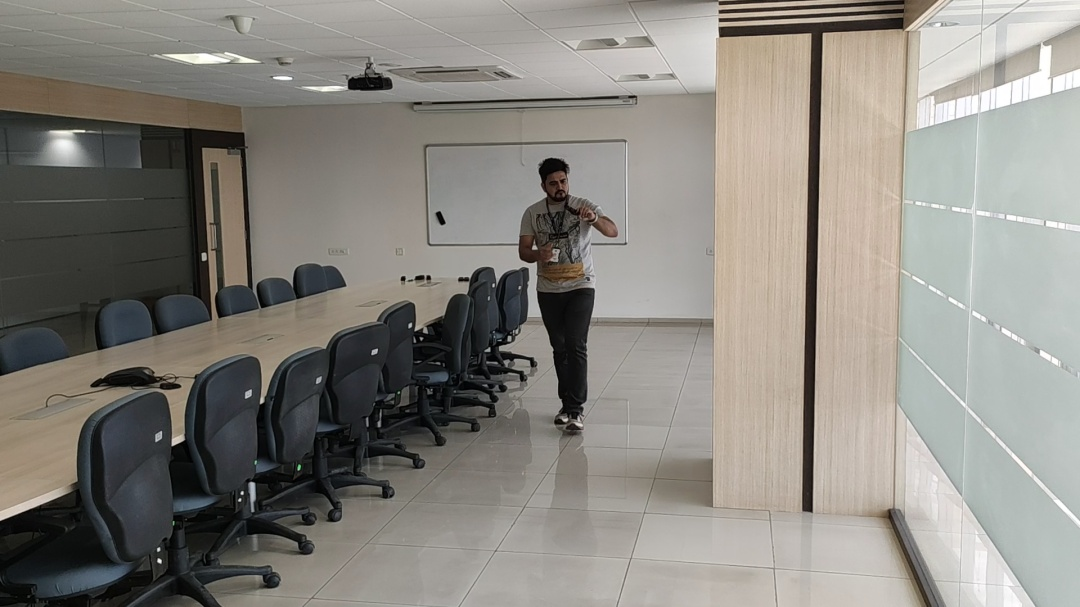gun: (565, 205, 577, 215)
